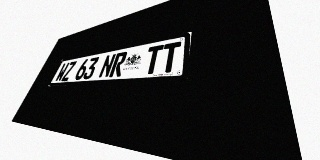3: (82, 57, 100, 80)
6: (74, 58, 91, 80)
N: (98, 53, 116, 78)
R: (109, 51, 128, 77)
T: (159, 41, 181, 73), (143, 44, 164, 75)
W: (54, 62, 70, 82)
Z: (61, 61, 77, 81)
